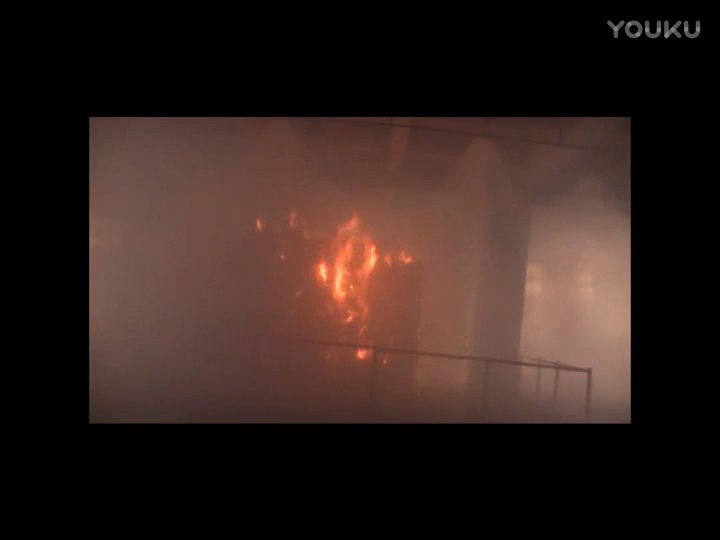fire: (320, 218, 379, 316)
